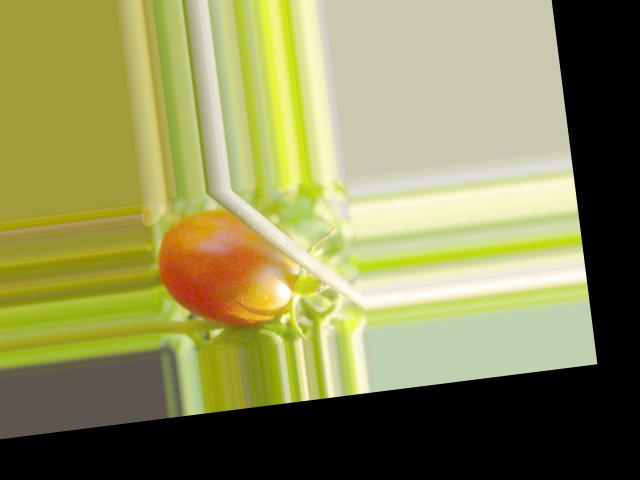tomato: (153, 201, 305, 333)
